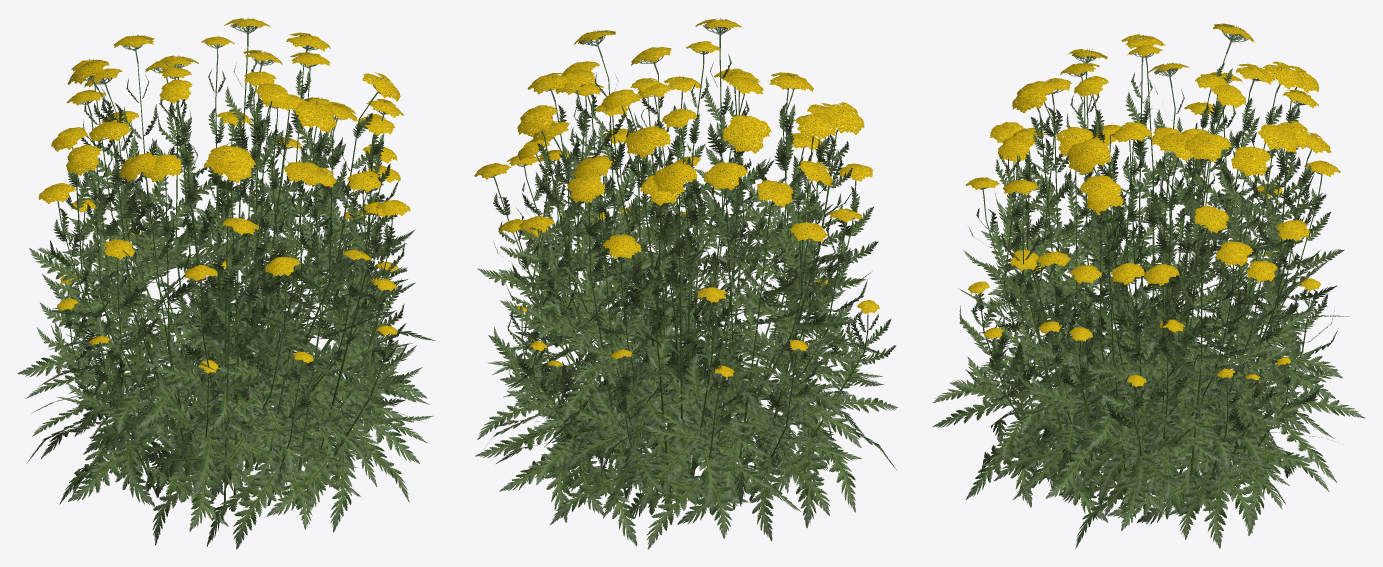
Rendered from ACG Coronation Gold Yarrow.fbx.
3 views of the same model, side by side, from view 1: azimuth 30°, elevation 25°; view 2: azimuth 150°, elevation 25°; view 3: azimuth 270°, elevation 25° (orthographic). The views are drawn at different scales.
Visible parts, largest first — view 1: ACG_Coronation_Gold_Yarrow; view 2: ACG_Coronation_Gold_Yarrow; view 3: ACG_Coronation_Gold_Yarrow.
Part boxes in pixels (<box>): ACG_Coronation_Gold_Yarrow: <box>17,18,435,549</box>; ACG_Coronation_Gold_Yarrow: <box>474,18,897,549</box>; ACG_Coronation_Gold_Yarrow: <box>932,23,1364,548</box>.
Size of the model in its own units: 94.61 by 96.15 by 104.
